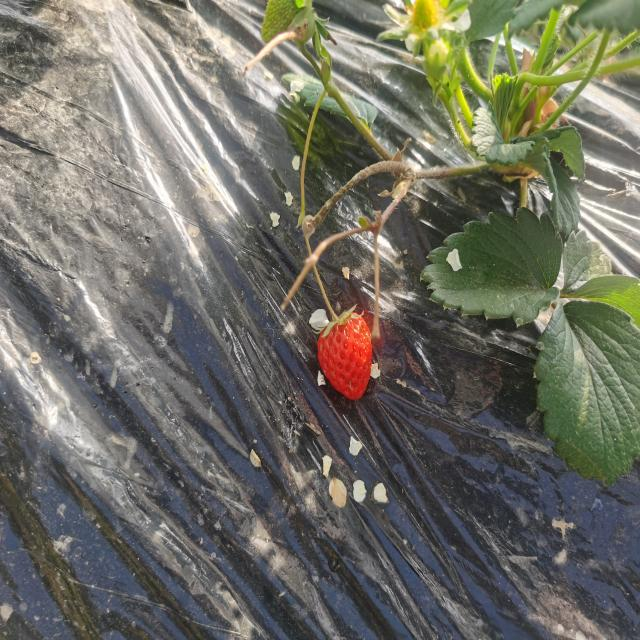stem: (321, 289, 340, 322)
strawberry: (317, 311, 372, 399)
